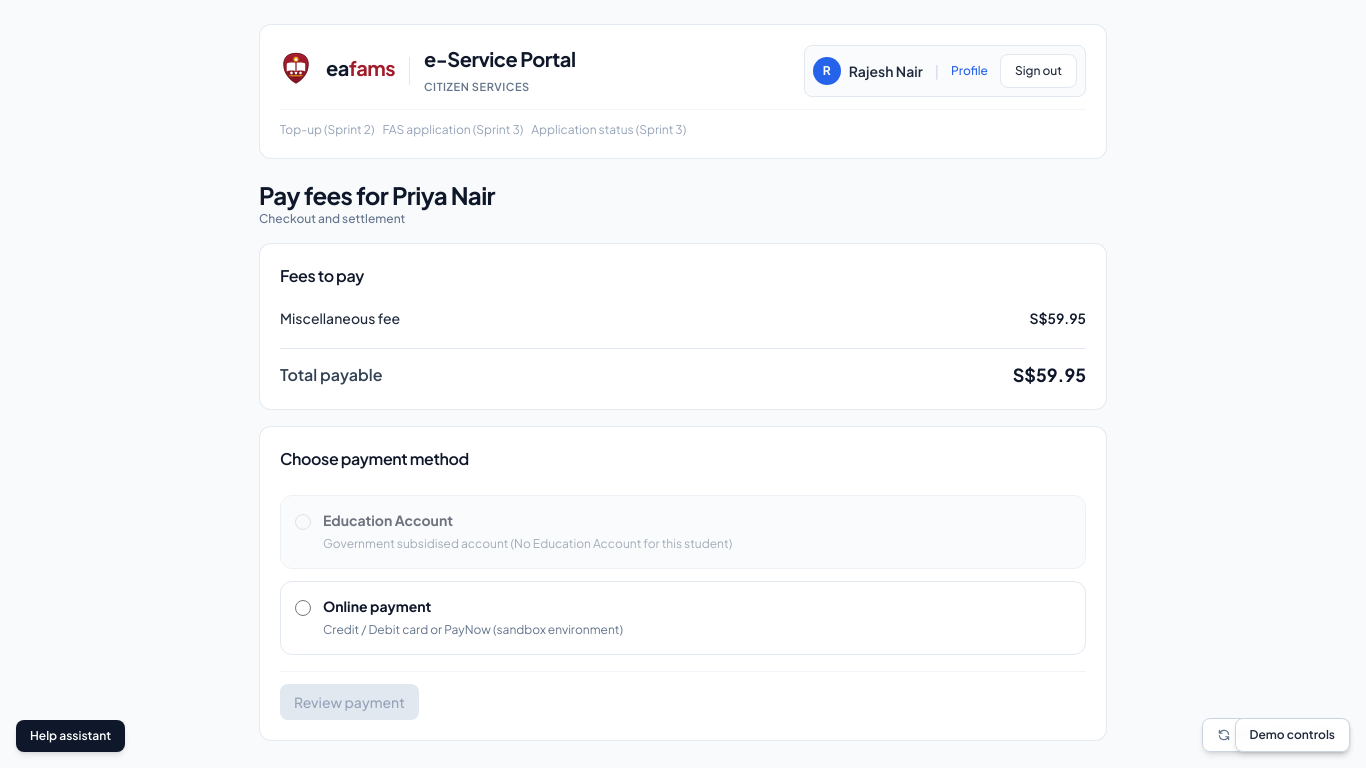
Test: cancel leaves the fee outstanding
The image size is (1366, 768).
Click the radio button labelled "Online payment". click: (303, 608)
box: [295, 600, 311, 616]
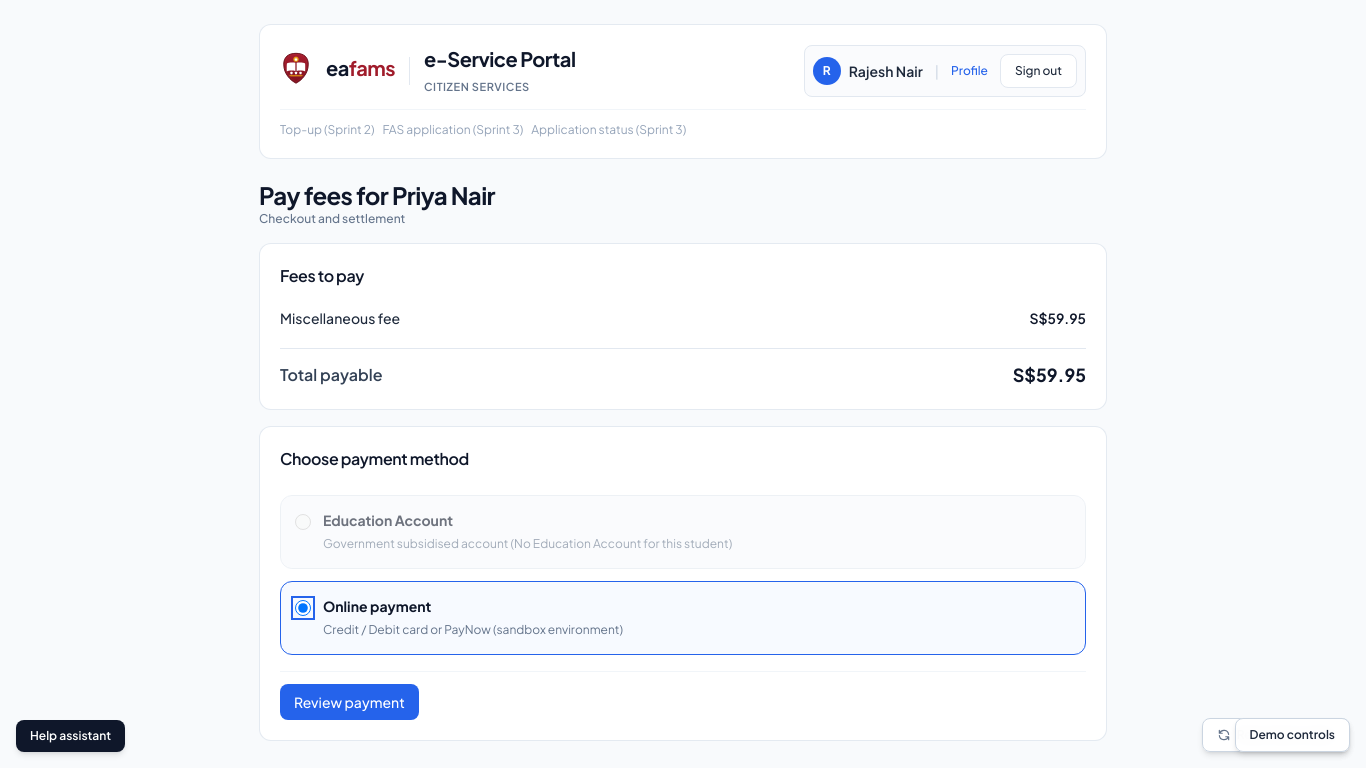
Click the button "Review payment". click: (349, 702)
box: [280, 684, 419, 720]
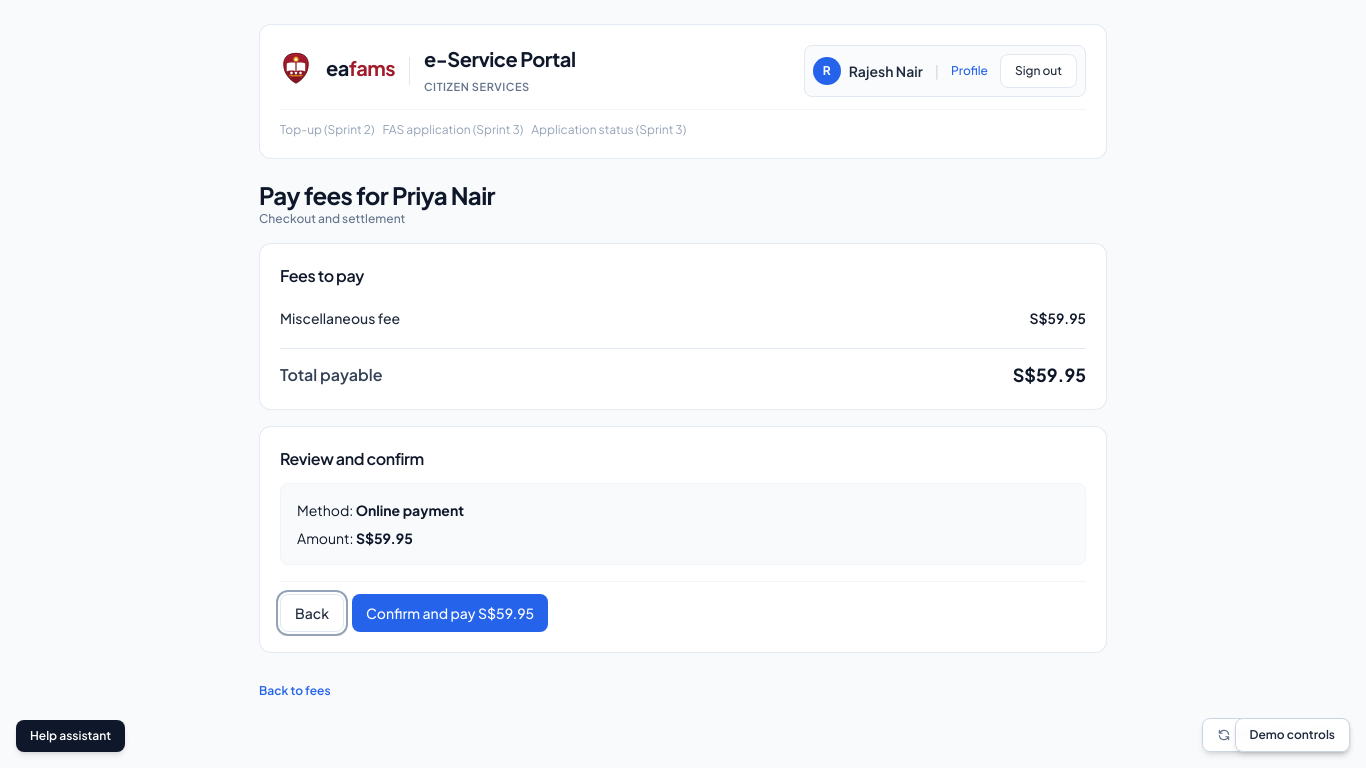
Click the button "Confirm and pay S$59.95". click: (450, 613)
box: [352, 594, 548, 632]
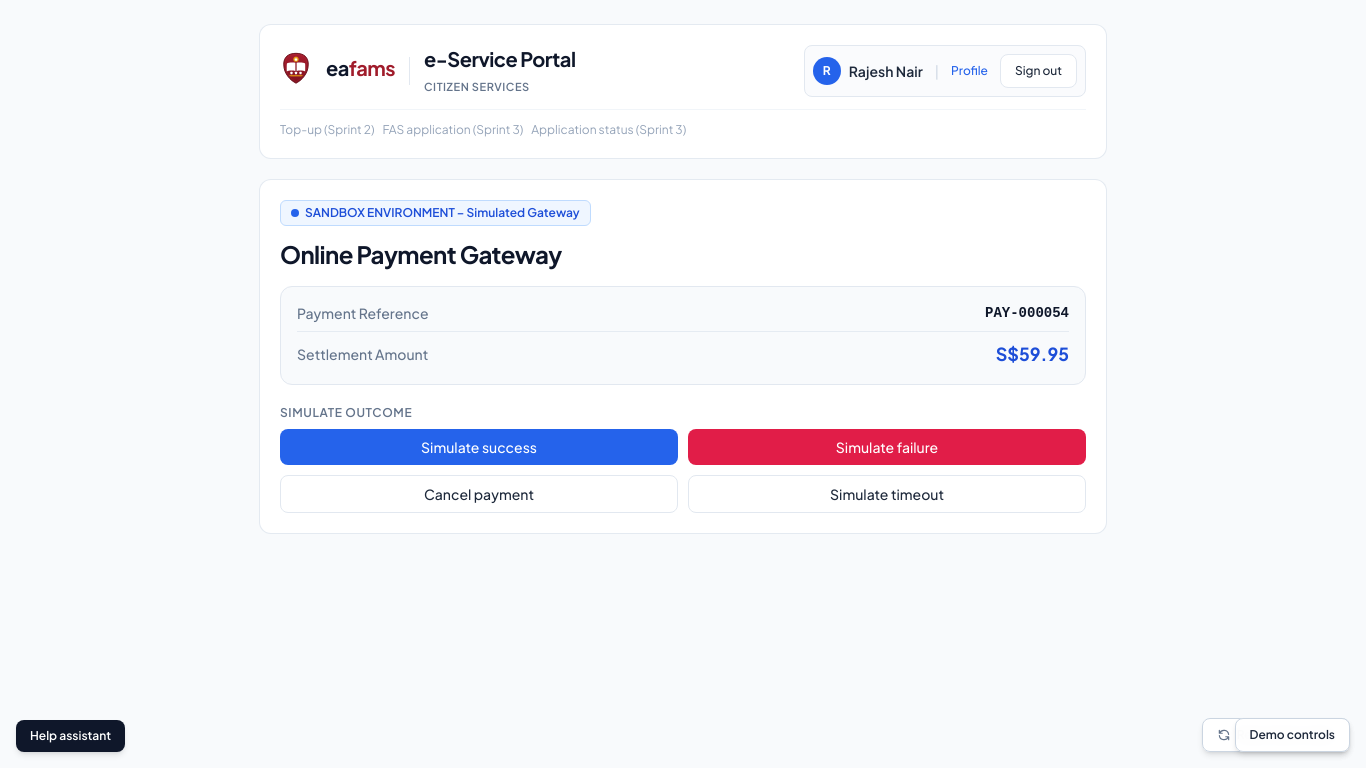
Expected: the element showing "SANDBOX ENVIRONMENT – Simulated Gateway" is shown, [280, 200, 591, 226]
Click the button "Cancel payment". click: (479, 494)
box: [280, 475, 678, 513]
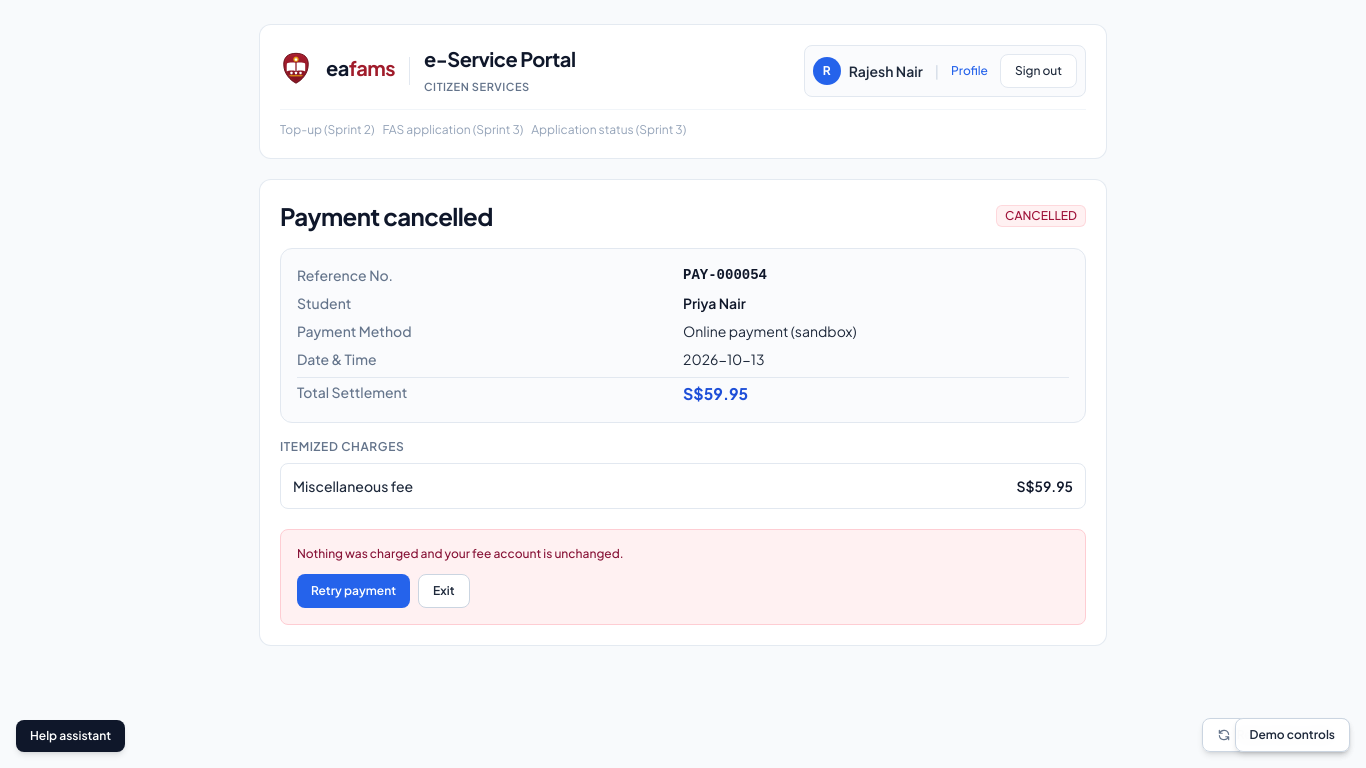
Expected: the heading "Payment cancelled" is shown, [280, 200, 493, 232]
